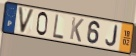0: (36, 11, 48, 37)
6: (87, 20, 102, 46)
J: (105, 24, 119, 48)
K: (69, 16, 85, 43)
L: (52, 14, 65, 41)
V: (17, 6, 36, 35)
